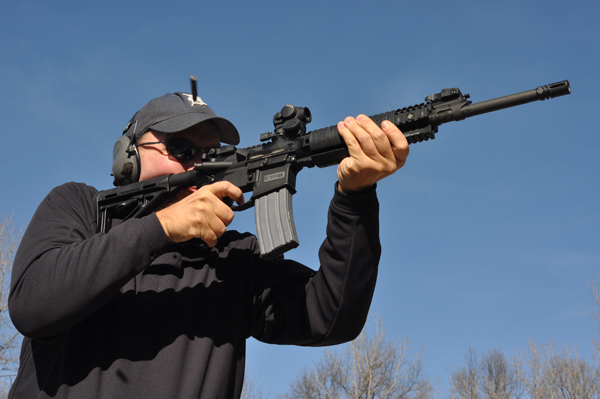Rifle: (92, 79, 572, 264)
